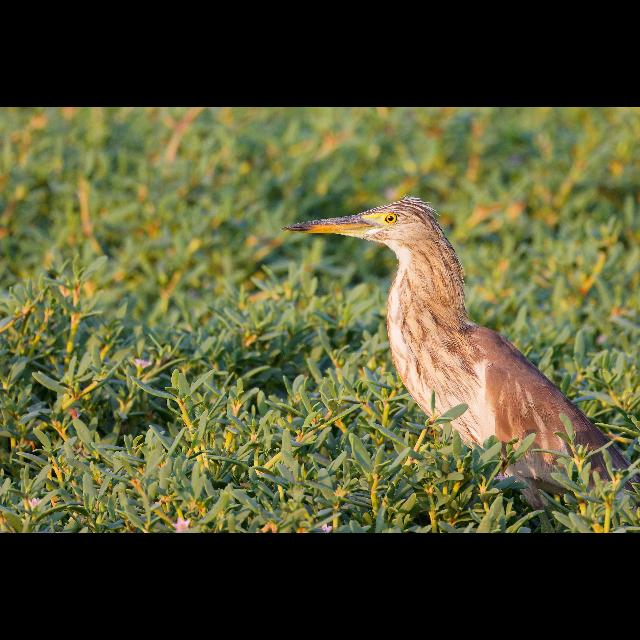heron: (276, 190, 638, 512)
